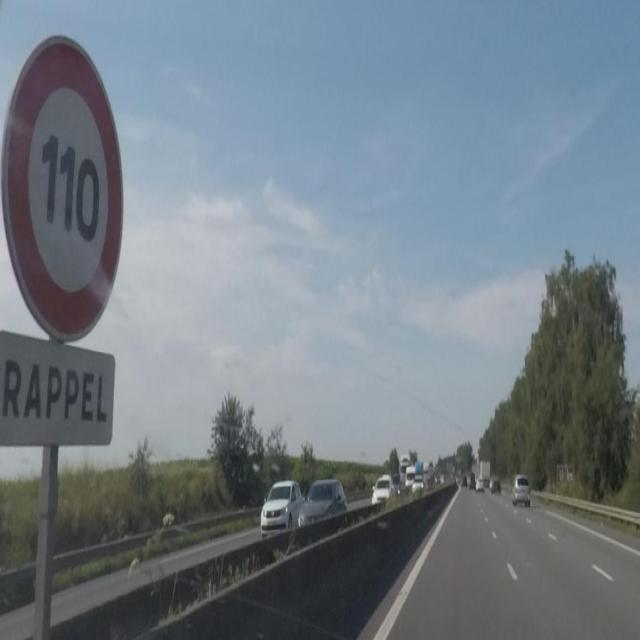speed_110: (5, 34, 123, 343)
